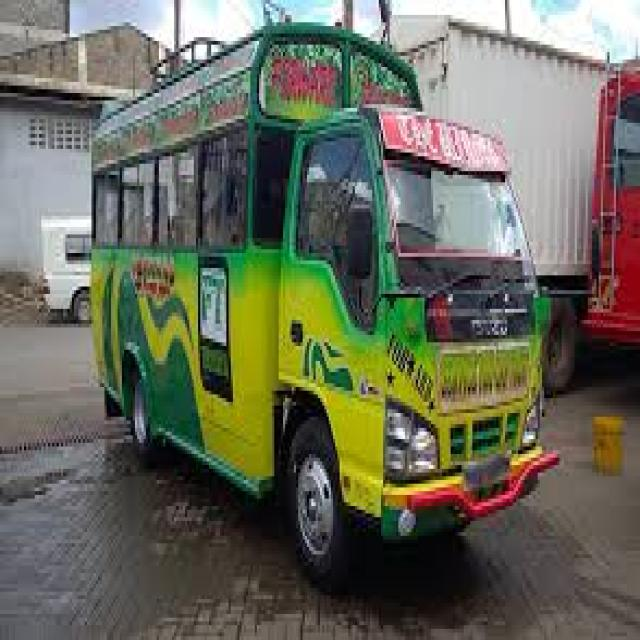bus: (61, 2, 620, 609)
